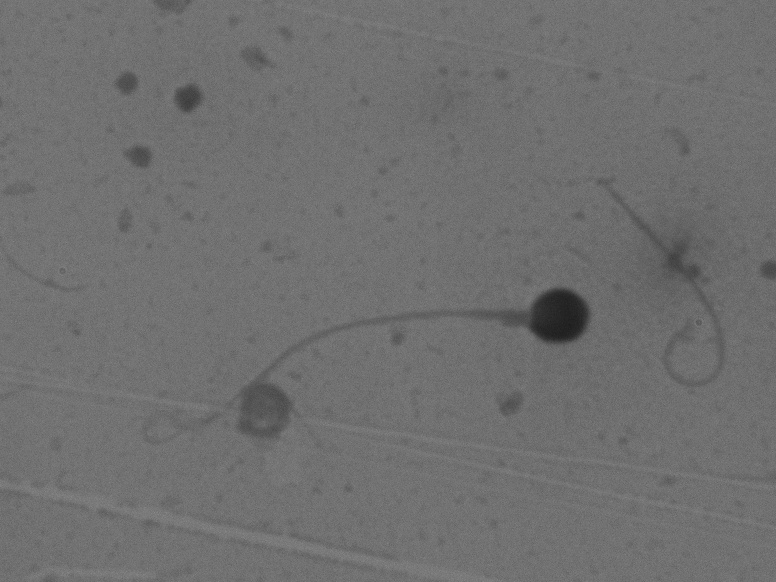Abnormal: (148, 215, 613, 494)
